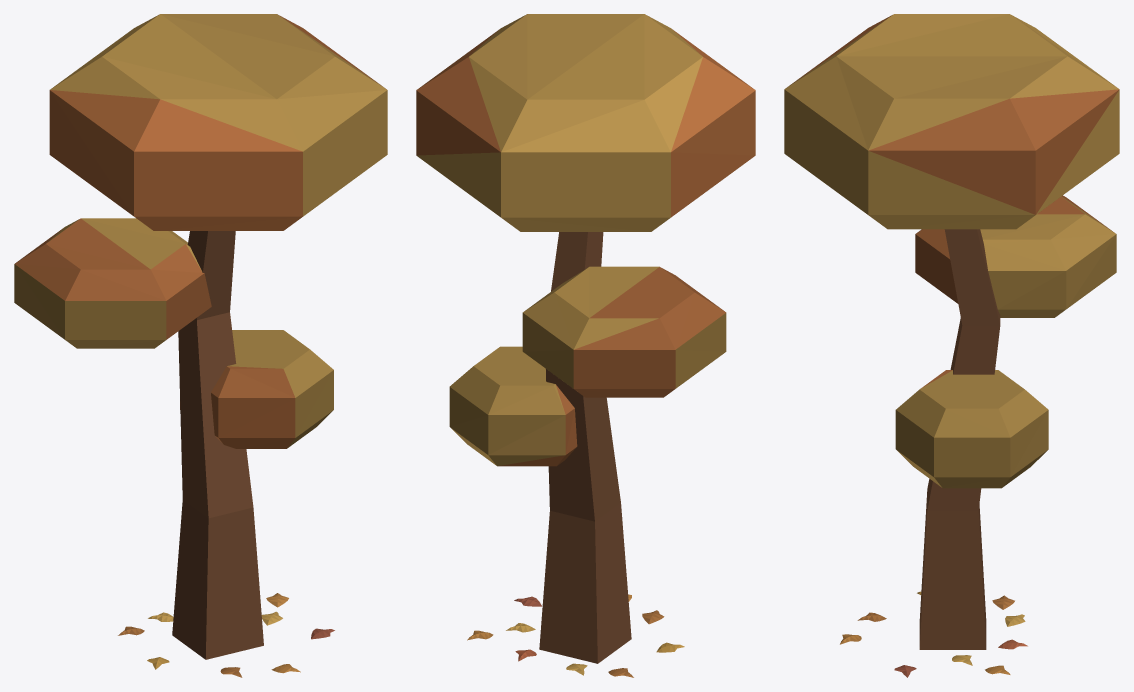
Rendered from tree_plateau_autumn.glb.
3 views of the same model, side by side, from view 1: azimuth 30°, elevation 25°; view 2: azimuth 150°, elevation 25°; view 3: azimuth 270°, elevation 25° (orthographic).
Visible parts, largest first — view 1: geometry; view 2: geometry; view 3: geometry.
Part boxes in pixels (x1,y1,x2,y2): geometry: [14, 14, 387, 677]; geometry: [416, 14, 755, 677]; geometry: [784, 14, 1119, 677].
Bounding box in the file's own units: 0.6117 × 1.25 × 0.6549.
